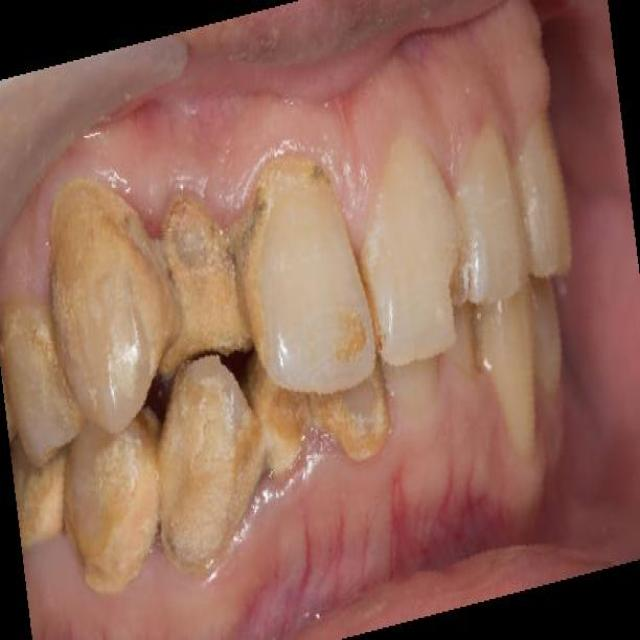caries: (432, 236, 478, 350)
